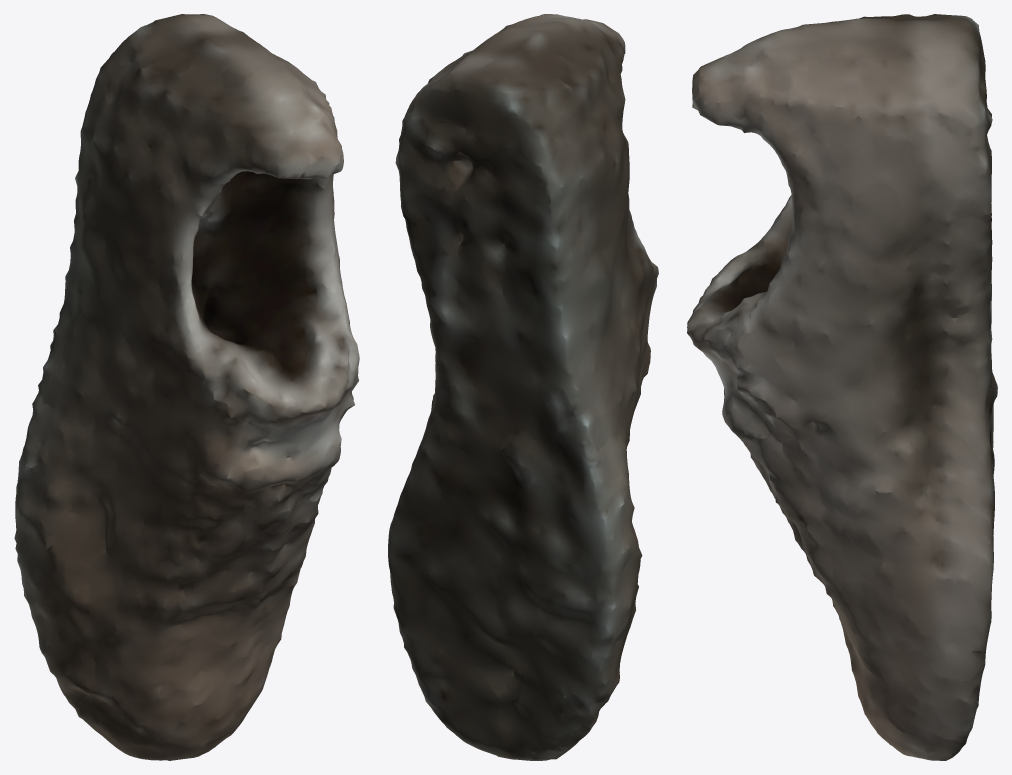
File: shoe3.glb
The picture shows the model from 3 angles, left to right: view 1: azimuth 30°, elevation 25°; view 2: azimuth 150°, elevation 25°; view 3: azimuth 270°, elevation 25°; orthographic projection. The views are drawn at different scales.
Size of the model in its own units: 0.3608 by 0.9961 by 0.3805.
